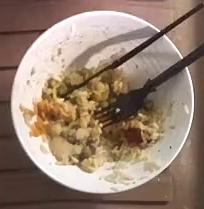taco_mix: (20, 66, 162, 171)
